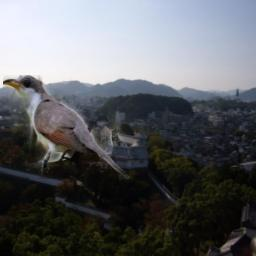Cuckoo: (3, 75, 130, 179)
